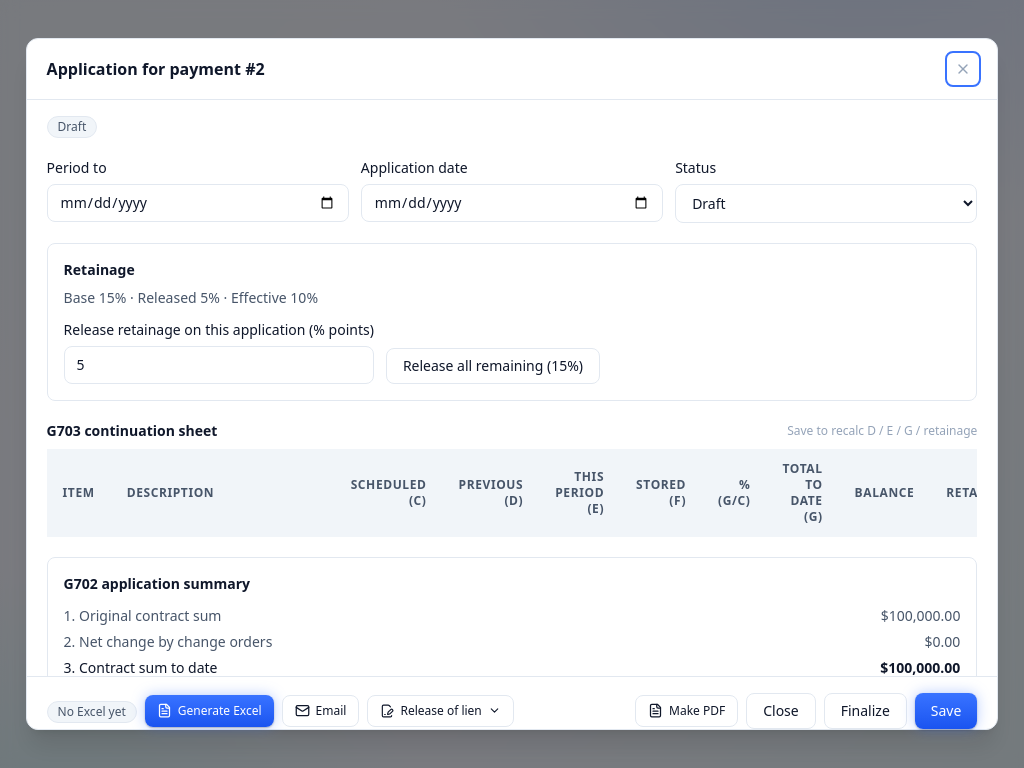
AiaPayAppEditor — document actions › reports a failed re-read instead of storing pre-save bytes
This screenshot has width=1024, height=768.
expect the number field labelled "Release retainage on this application (% points)" holds "5": met, box [64,346,374,384]
Click the button with test id "doc-generate": coordinates (209, 711) [145,695,274,727]
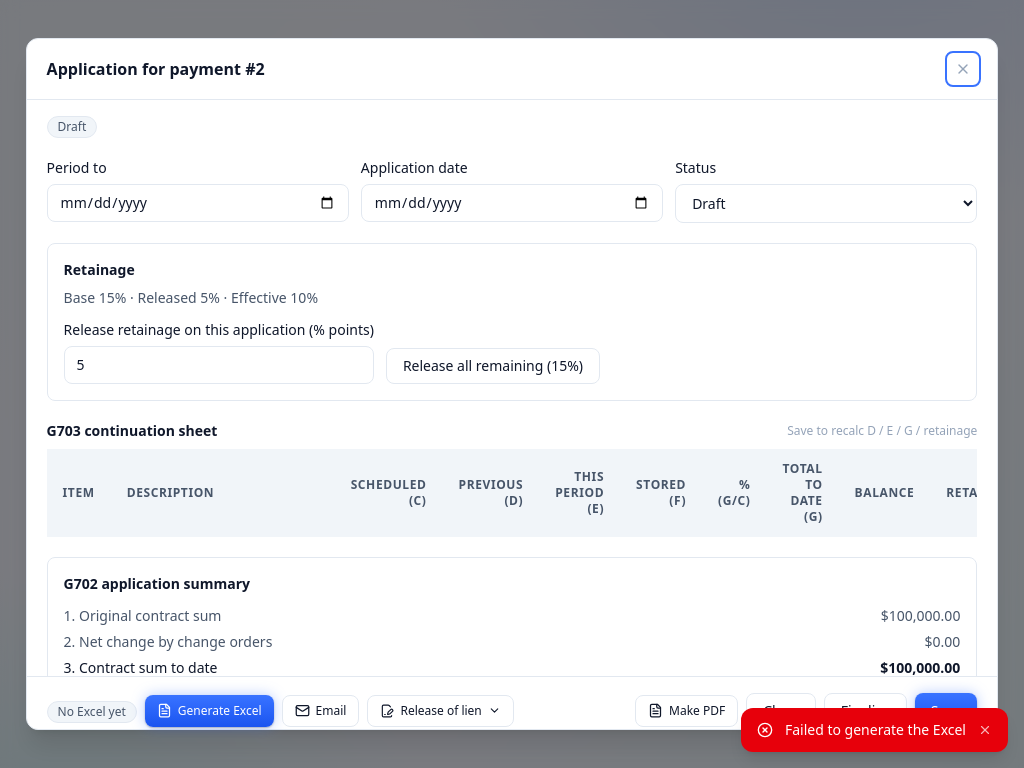
expect the text "Failed to generate the Excel" is shown: met, box [785,720,966,740]
